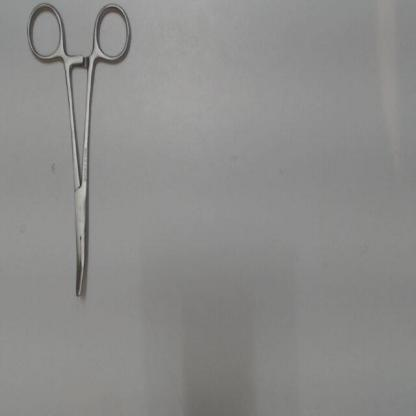Crile Artery Forceps: (24, 2, 135, 305)
